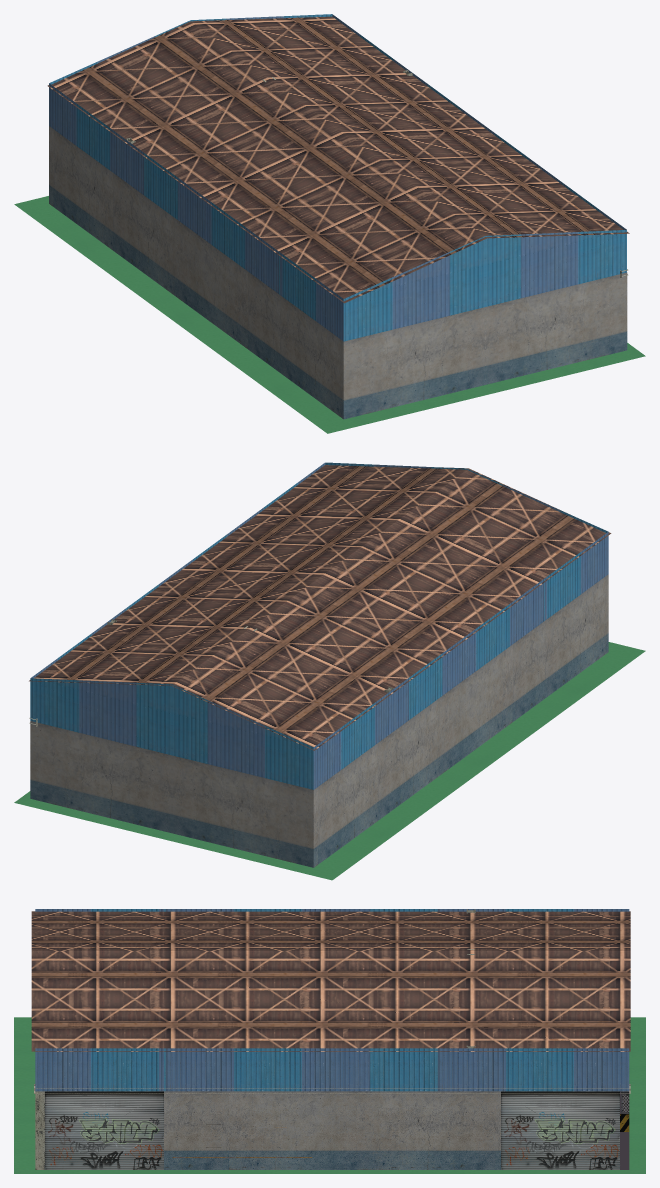
The model's file is garage_assets1.fbx.
The picture shows the model from 3 angles, top to bottom: view 1: azimuth 30°, elevation 25°; view 2: azimuth 150°, elevation 25°; view 3: azimuth 270°, elevation 25°; orthographic projection.
Parts seen in each view (by area): view 1: Roof, Wall, Floor; view 2: Roof, Wall, Floor; view 3: Roof, Wall, Floor, Beam_3, Beam_4.
Part boxes in pixels (bbox=[...]): Roof: bbox=[47, 16, 629, 303]; Wall: bbox=[49, 14, 627, 419]; Floor: bbox=[14, 196, 645, 433]; Roof: bbox=[29, 465, 611, 750]; Wall: bbox=[30, 462, 608, 867]; Floor: bbox=[14, 642, 645, 880]; Roof: bbox=[31, 911, 630, 1051]; Wall: bbox=[35, 909, 629, 1169]; Floor: bbox=[14, 1017, 645, 1173]; Beam_3: bbox=[34, 1084, 350, 1093]; Beam_4: bbox=[351, 1084, 630, 1093].
Size of the model in its own units: 1017 by 467 by 1735.
